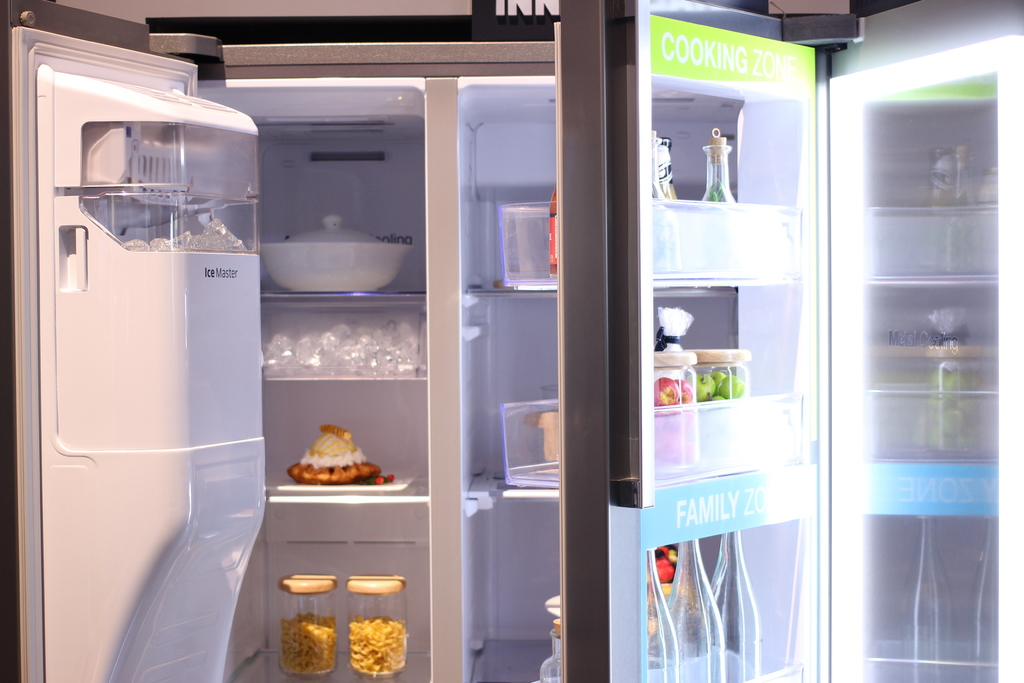refrigerator door: (588, 18, 822, 683), (20, 48, 220, 683)
